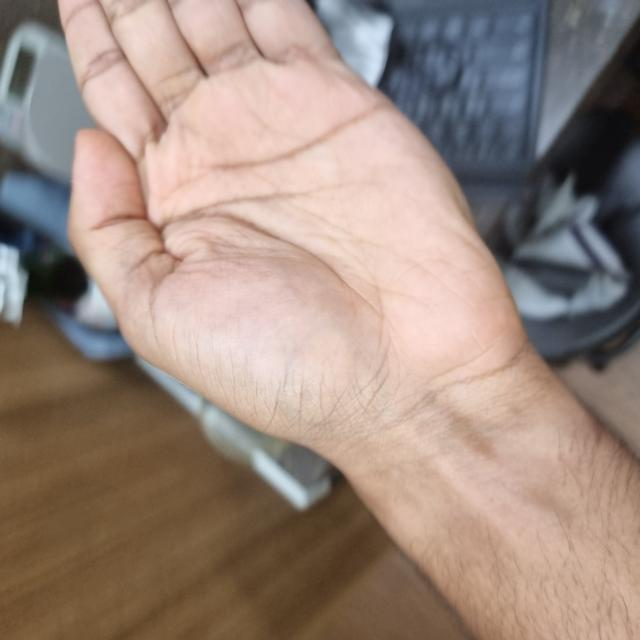Paper: (170, 67, 638, 519)
